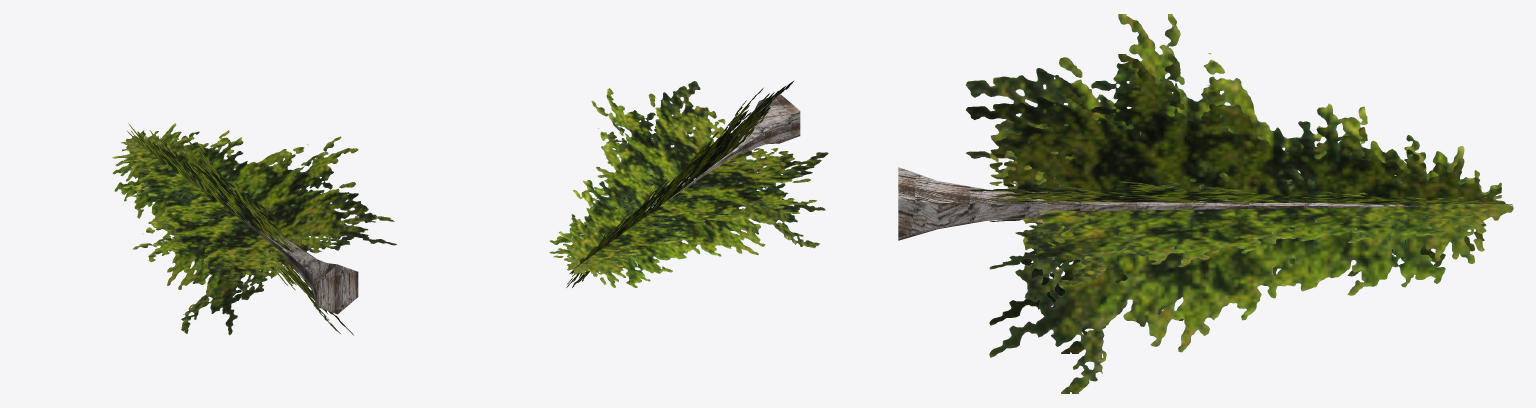
Rendered from Arbol3.fbx.
The picture shows the model from 3 angles, left to right: view 1: azimuth 30°, elevation 25°; view 2: azimuth 150°, elevation 25°; view 3: azimuth 270°, elevation 25°; orthographic projection. The views are drawn at different scales.
Parts seen in each view (by area): view 1: arbol.001; view 2: arbol.001; view 3: arbol.001.
Part boxes in pixels (left/top/right/bottom): arbol.001: left=112, top=123, right=396, bottom=335; arbol.001: left=549, top=81, right=828, bottom=287; arbol.001: left=898, top=14, right=1513, bottom=393.
Size of the model in its own units: 4.4 by 7.17 by 4.28.
Materials: 2 (2 with a texture image).
